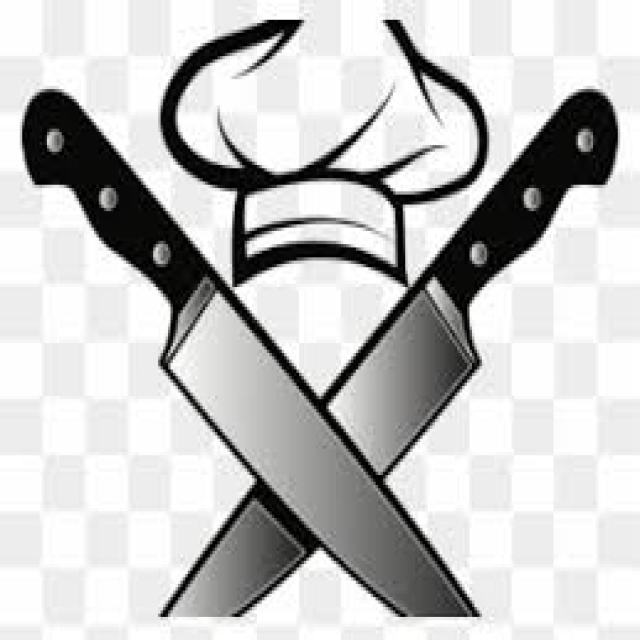Knife: (155, 82, 618, 617)
